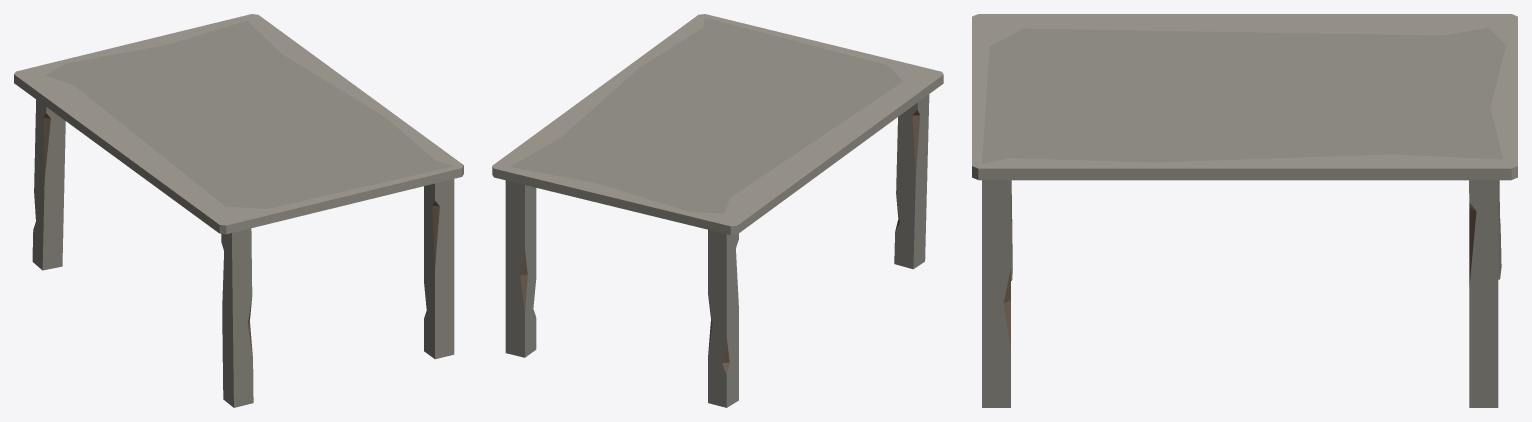
File: model_table.fbx
The picture shows the model from 3 angles, left to right: view 1: azimuth 30°, elevation 25°; view 2: azimuth 150°, elevation 25°; view 3: azimuth 270°, elevation 25°; orthographic projection. The views are drawn at different scales.
Parts seen in each view (by area): view 1: model_table; view 2: model_table; view 3: model_table.
Part boxes in pixels (x1=…): model_table: x1=14, y1=14, x2=463, y2=407; model_table: x1=492, y1=14, x2=943, y2=407; model_table: x1=972, y1=14, x2=1517, y2=407.
Size of the model in its own units: 217 by 160 by 323.
1 material, 1 textured.
